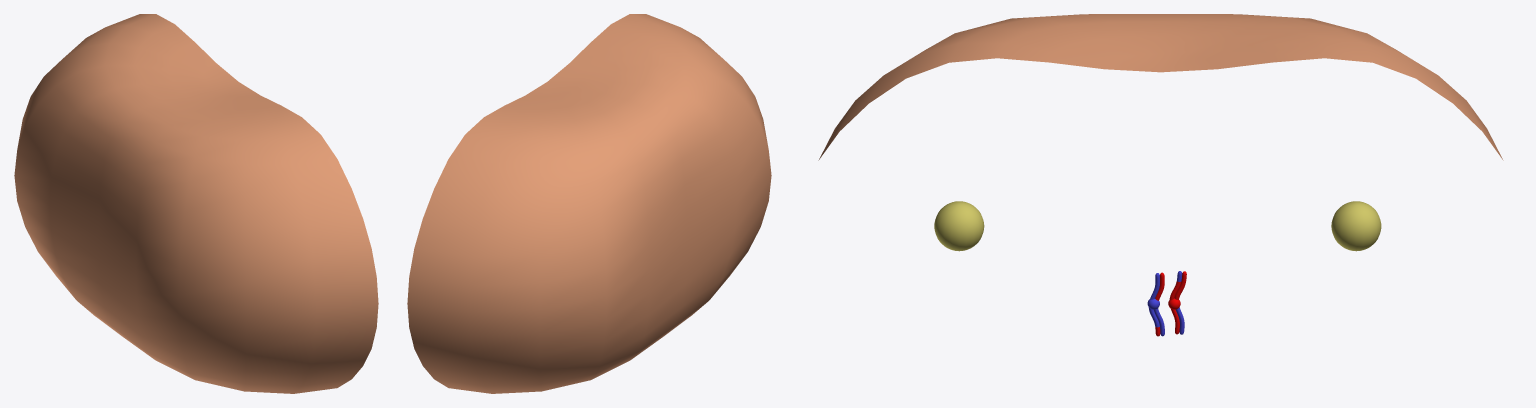
File: giam phan 1 ky giua.glb
3 views of the same model, side by side, from view 1: azimuth 30°, elevation 25°; view 2: azimuth 150°, elevation 25°; view 3: azimuth 270°, elevation 25° (orthographic). The views are drawn at different scales.
Visible parts, largest first — view 1: pSphere1; view 2: pSphere1; view 3: pSphere1, pSphere3, pSphere2.
Part boxes in pixels (box(x1,y1,x2,y2)): pSphere1: box(14, 14, 378, 393); pSphere1: box(407, 14, 771, 393); pSphere1: box(818, 14, 1503, 160); pSphere3: box(934, 201, 984, 251); pSphere2: box(1331, 201, 1381, 251).
Size of the model in its own units: 2.66 by 4.08 by 7.94.
